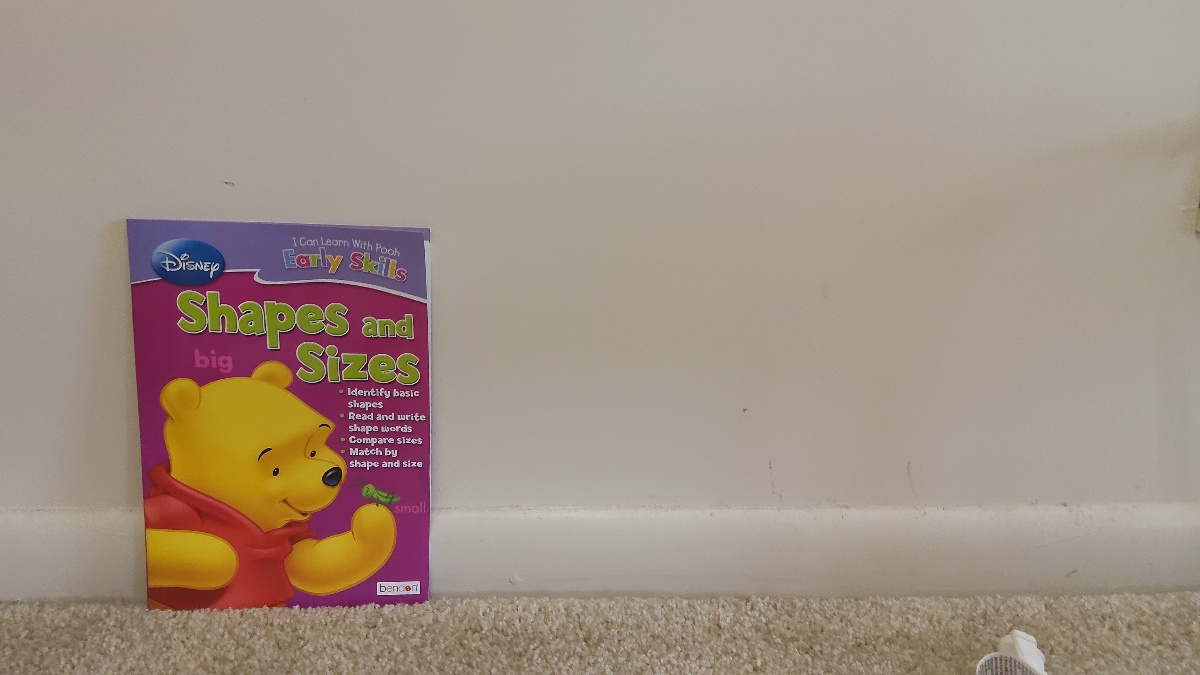book: (128, 220, 425, 604)
